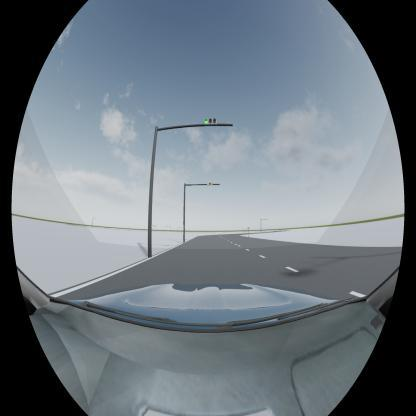Green Light: (203, 118, 219, 126)
